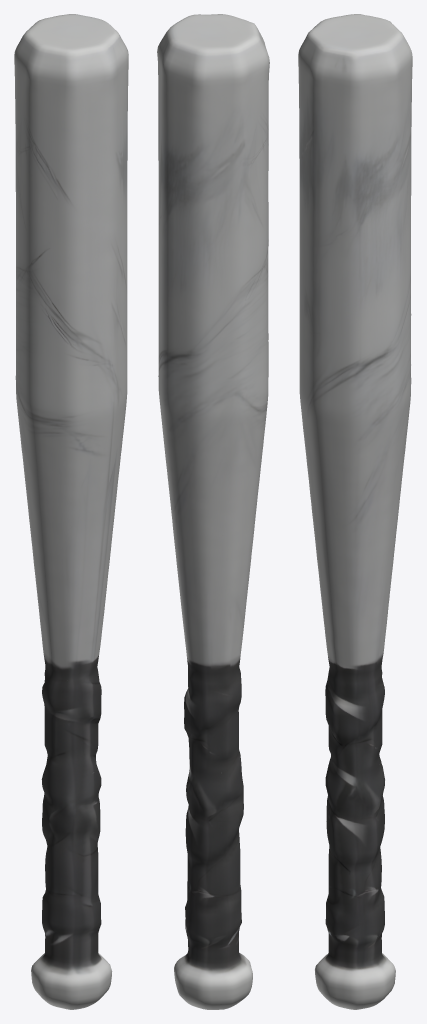
File: SiverBat_A.fbx
The picture shows the model from 3 angles, left to right: view 1: azimuth 90°, elevation 25°; view 2: azimuth 210°, elevation 25°; view 3: azimuth 270°, elevation 25°; orthographic projection.
Visible parts, largest first — view 1: input; view 2: input; view 3: input.
Boxes of the visible parts, bbox=[...] form: input: bbox=[14, 14, 128, 1009]; input: bbox=[157, 14, 269, 1009]; input: bbox=[298, 14, 412, 1009].
Bounding box in the file's own units: 20.61 × 191 × 20.49.
1 material, 1 textured.
